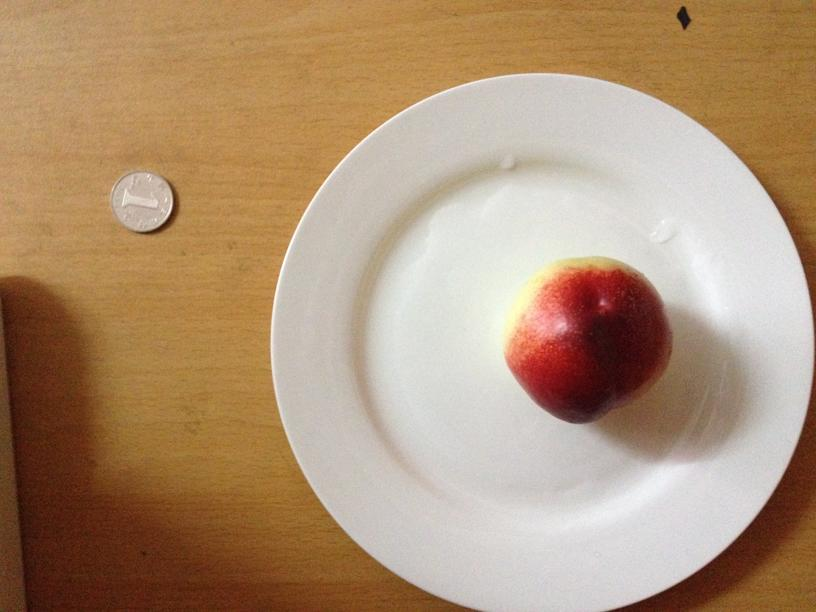coin: (111, 168, 177, 236)
peach: (496, 252, 673, 425)
